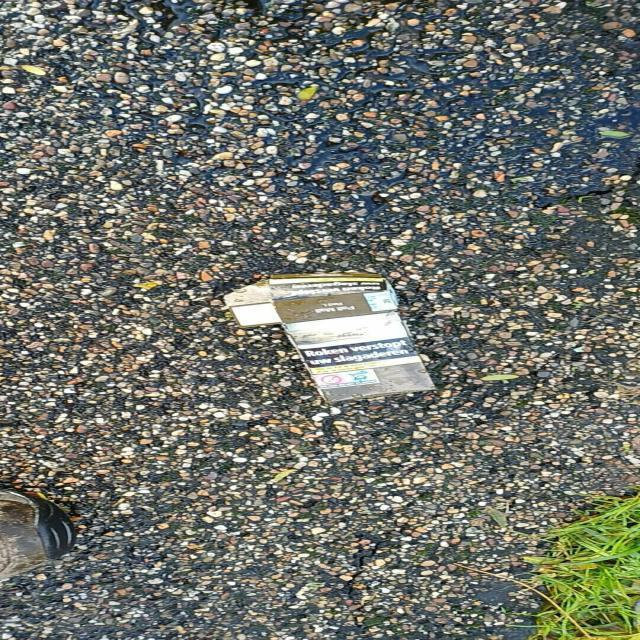Paper: (220, 270, 438, 404)
